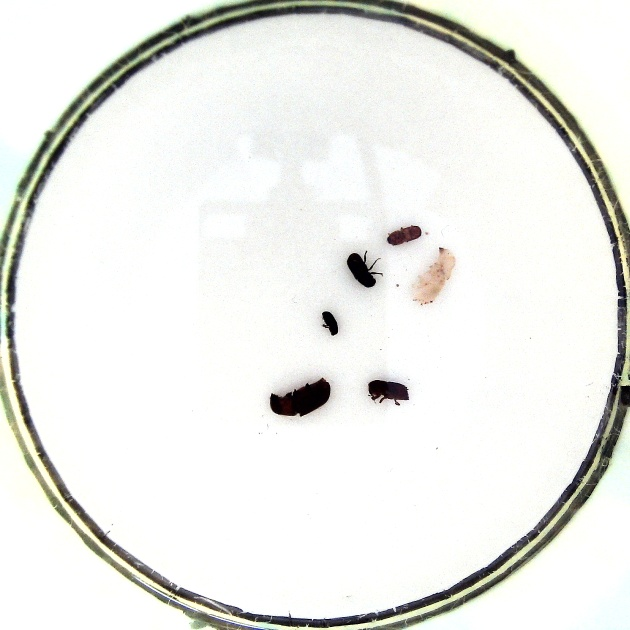acuminatus: (385, 221, 424, 246)
armandi: (344, 248, 386, 288)
boerner: (410, 245, 457, 306)
coleoptera: (320, 306, 339, 338)
leconte: (266, 375, 330, 423)
linnaeus: (367, 376, 411, 407)
